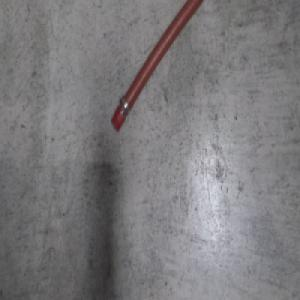Hose: (109, 0, 203, 133)
